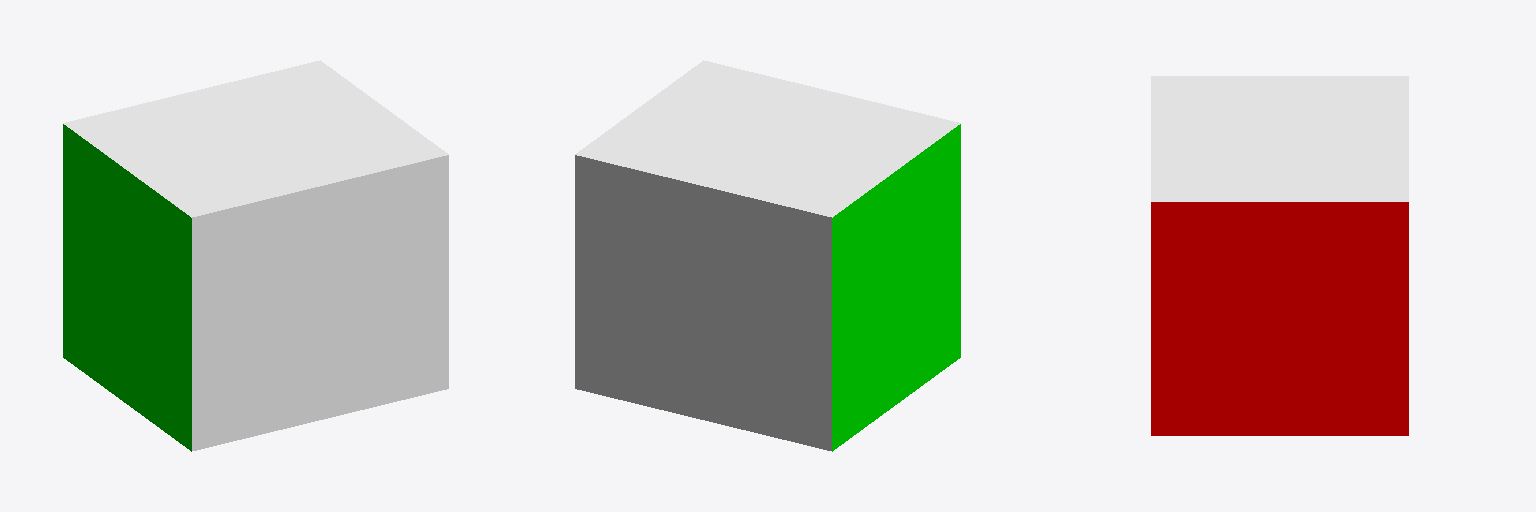
The picture shows the model from 3 angles: view 1: azimuth 30°, elevation 25°; view 2: azimuth 150°, elevation 25°; view 3: azimuth 270°, elevation 25°; orthographic projection.
Parts seen in each view (by area): view 1: wall6, wall1, wall5; view 2: wall2, wall1, wall5; view 3: wall4, wall1.
Boxes of the visible parts, x1=… form: wall6: x1=192, y1=155, x2=448, y2=450; wall1: x1=63, y1=60, x2=448, y2=217; wall5: x1=63, y1=124, x2=191, y2=451; wall2: x1=575, y1=155, x2=831, y2=450; wall1: x1=575, y1=60, x2=960, y2=217; wall5: x1=832, y1=124, x2=960, y2=451; wall4: x1=1151, y1=202, x2=1408, y2=435; wall1: x1=1151, y1=76, x2=1408, y2=201.
Bounding box in the file's own units: 11.53 × 10 × 10.